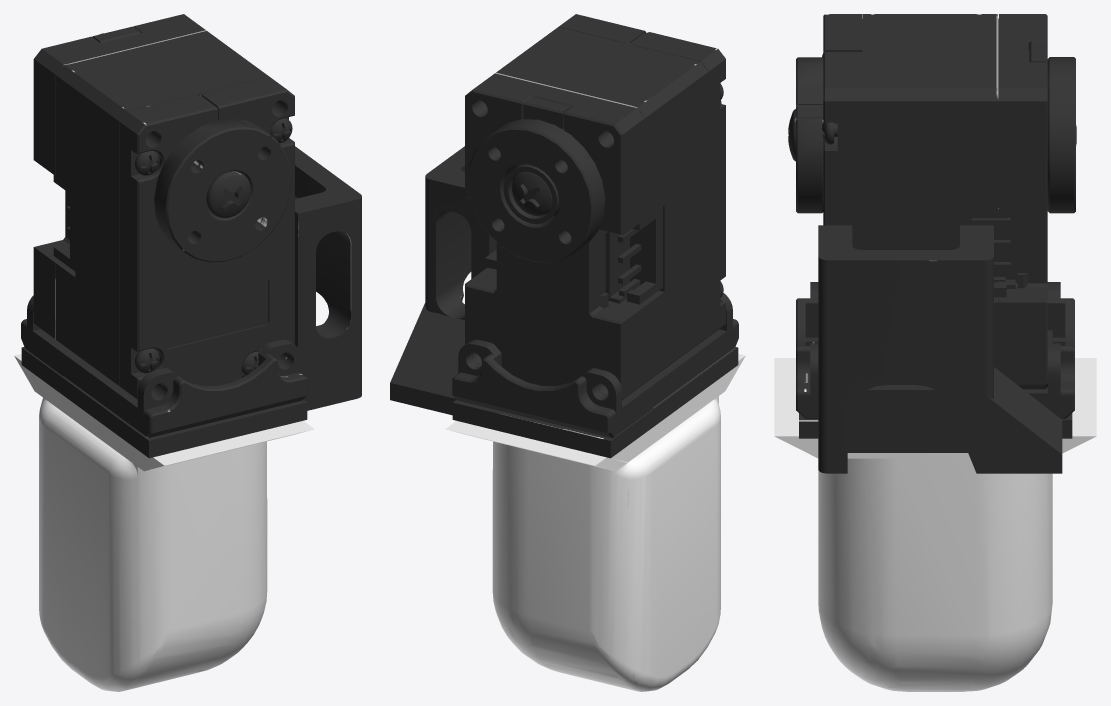
File: thumb_fingertip_color.obj
3 renders of one model, left to right at view 1: azimuth 30°, elevation 25°; view 2: azimuth 150°, elevation 25°; view 3: azimuth 270°, elevation 25°, orthographic. The views are drawn at different scales.
Visible parts, largest first — view 1: thumb_fingertip; view 2: thumb_fingertip; view 3: thumb_fingertip.
Part boxes in pixels (bbox=[...]): thumb_fingertip: bbox=[14, 14, 361, 691]; thumb_fingertip: bbox=[390, 14, 745, 691]; thumb_fingertip: bbox=[774, 14, 1096, 691].
Size of the model in its own units: 0.0296 by 0.0716 by 0.033.
